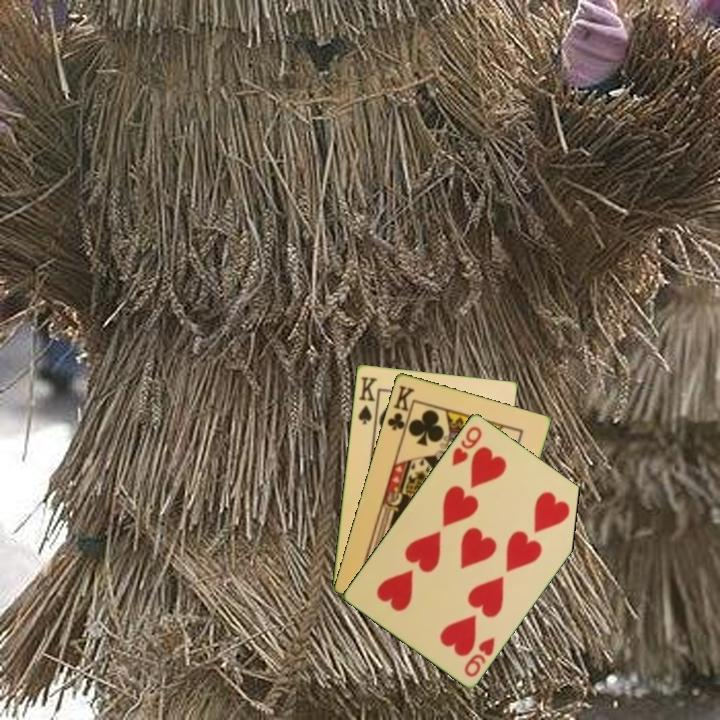9h: (460, 633, 498, 680), (448, 422, 485, 469)
Kc: (383, 381, 418, 438)
Ks: (354, 373, 380, 428)
